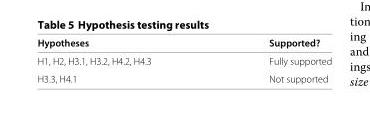table: (36, 36, 331, 83)
table column: (36, 36, 209, 83), (209, 36, 331, 83)
table column header: (36, 36, 331, 51)
table row: (36, 51, 331, 69), (36, 36, 331, 51), (36, 69, 331, 83)
